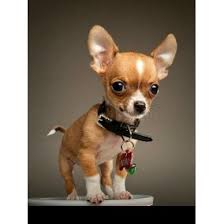chihuahua: (44, 22, 180, 203)
